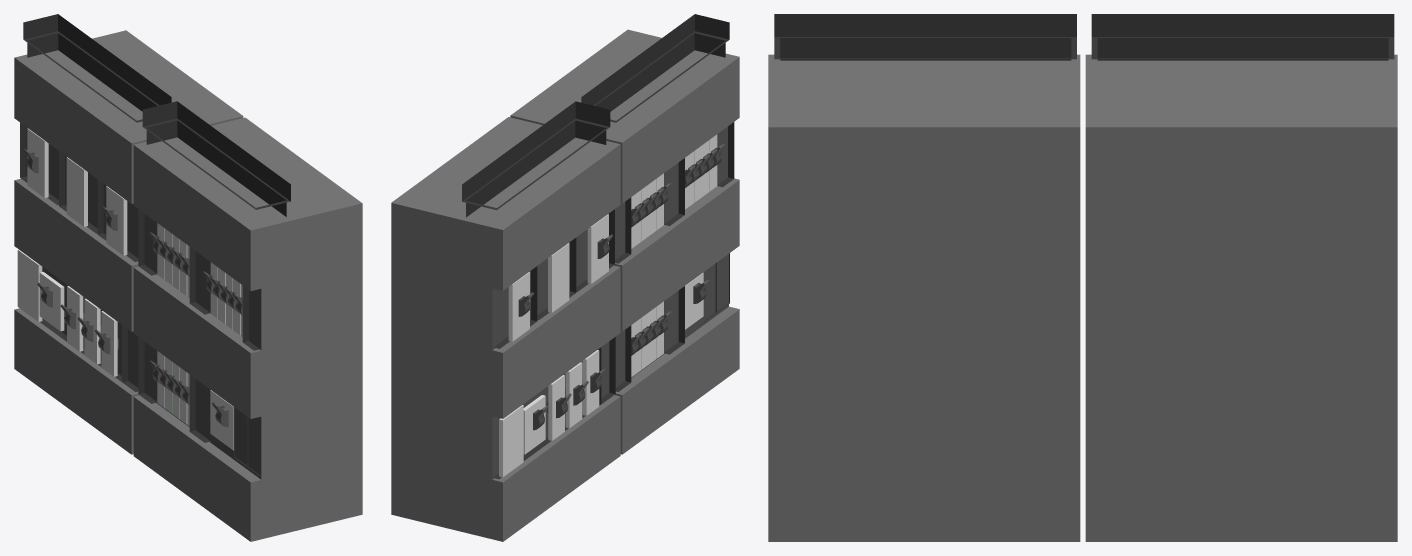
The model's file is Meterkast.fbx.
The picture shows the model from 3 angles, left to right: view 1: azimuth 30°, elevation 25°; view 2: azimuth 150°, elevation 25°; view 3: azimuth 270°, elevation 25°; orthographic projection. The views are drawn at different scales.
Visible parts, largest first — view 1: Meterkast Body; view 2: Meterkast Body; view 3: Meterkast Body.
Part boxes in pixels (box(x1,y1,x2,y2)): Meterkast Body: box(14, 14, 362, 541); Meterkast Body: box(391, 14, 739, 541); Meterkast Body: box(768, 14, 1397, 541).
Size of the model in its own units: 23.17 by 63.5 by 78.71.
